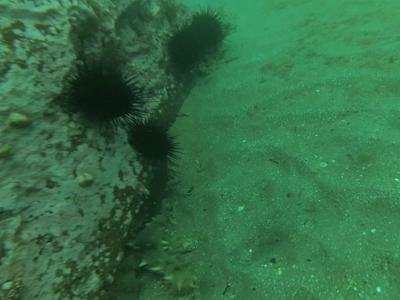holothurian: (129, 213, 205, 295)
urchin: (59, 56, 145, 131), (124, 119, 181, 164), (165, 27, 209, 69), (185, 10, 230, 51)
